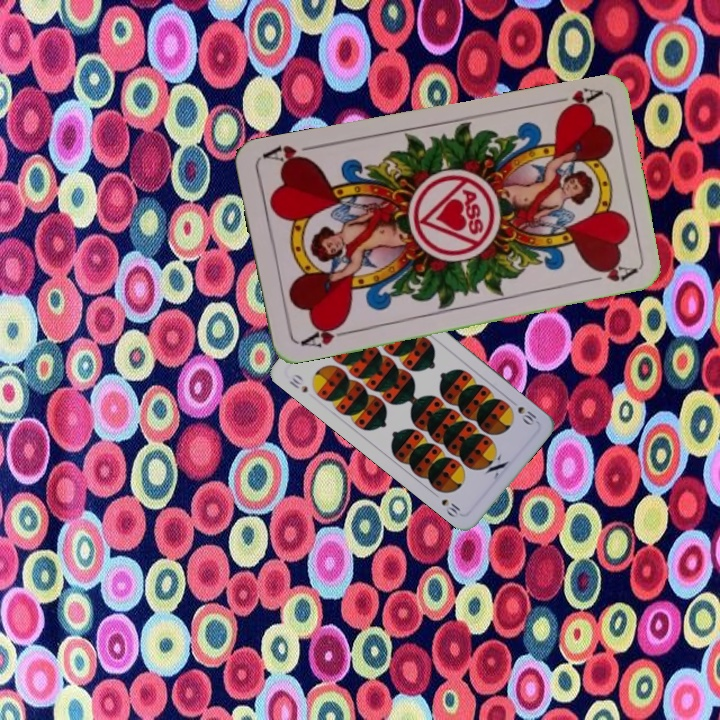HA: (293, 318, 352, 350), (544, 84, 603, 116)
S10: (513, 402, 539, 428), (285, 370, 310, 395)
